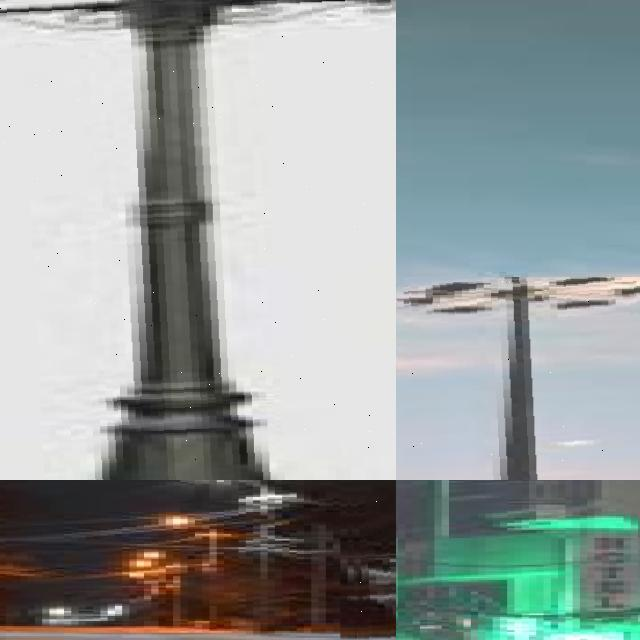street light: (0, 0, 396, 480), (397, 277, 640, 480), (202, 480, 274, 632), (173, 518, 231, 628), (144, 552, 191, 628)
